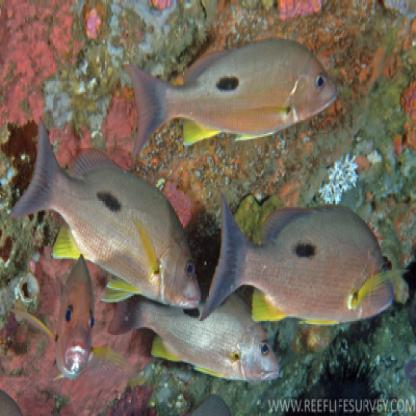snapper: (5, 113, 203, 314), (200, 185, 403, 333), (125, 34, 343, 166)
